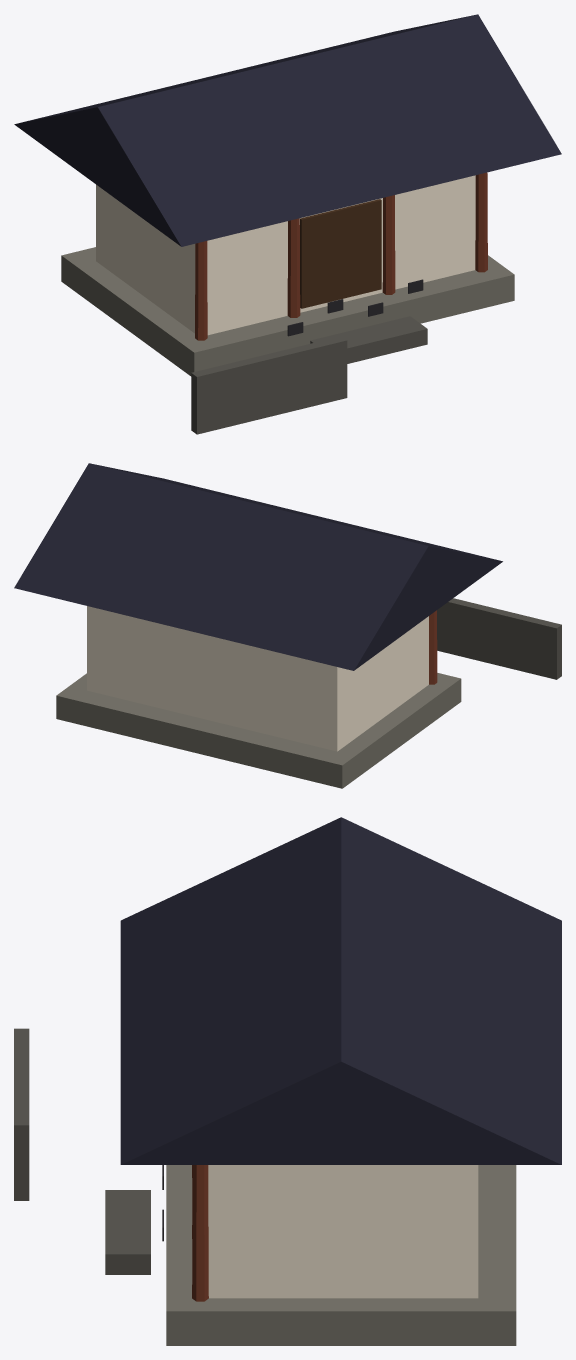
Rendered from a2m_owner_house.glb.
3 renders of one model, top to bottom at view 1: azimuth 30°, elevation 25°; view 2: azimuth 150°, elevation 25°; view 3: azimuth 270°, elevation 25°, orthographic. The views are drawn at different scales.
Parts seen in each view (by area): view 1: a2m_owner_house; view 2: a2m_owner_house; view 3: a2m_owner_house.
Boxes of the visible parts, left/top/right/bottom form: a2m_owner_house: left=14, top=14, right=561, bottom=434; a2m_owner_house: left=14, top=463, right=561, bottom=788; a2m_owner_house: left=14, top=817, right=561, bottom=1345.
Bounding box in the file's own units: 8.1 × 4.4 × 7.2.
